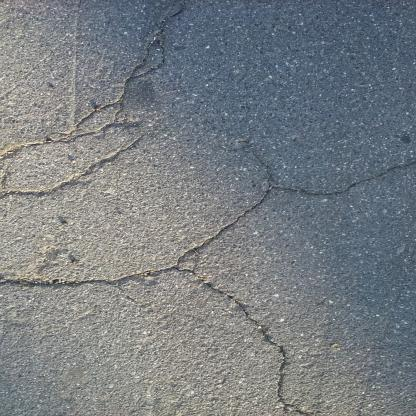Cracks: (0, 155, 413, 415), (0, 0, 199, 209)
